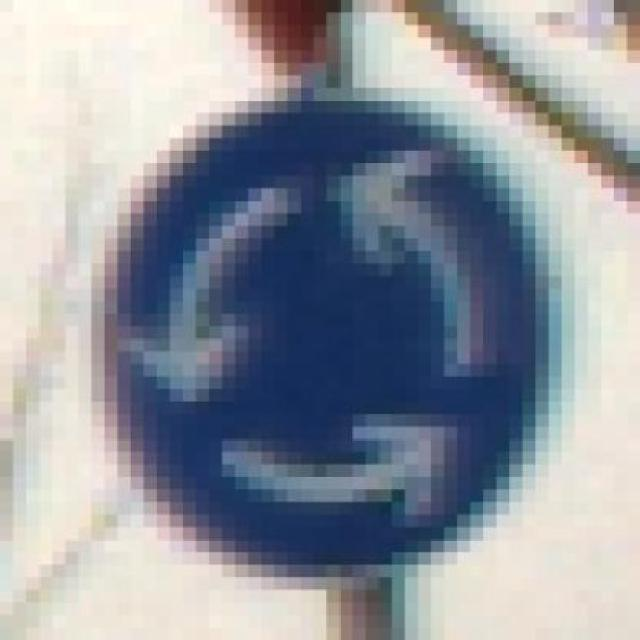Round-About: (39, 75, 601, 590)
